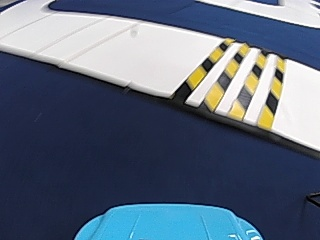bump: (179, 38, 281, 124)
